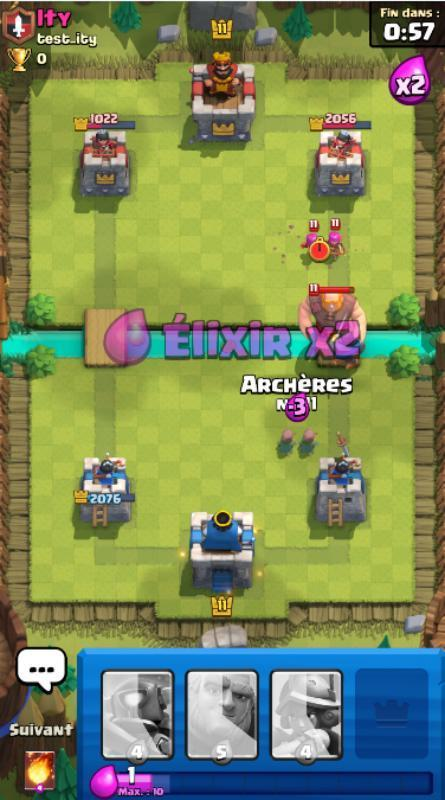enemy_archers: (324, 220, 348, 257), (299, 220, 323, 252)
enemy_giant: (295, 281, 369, 351)
